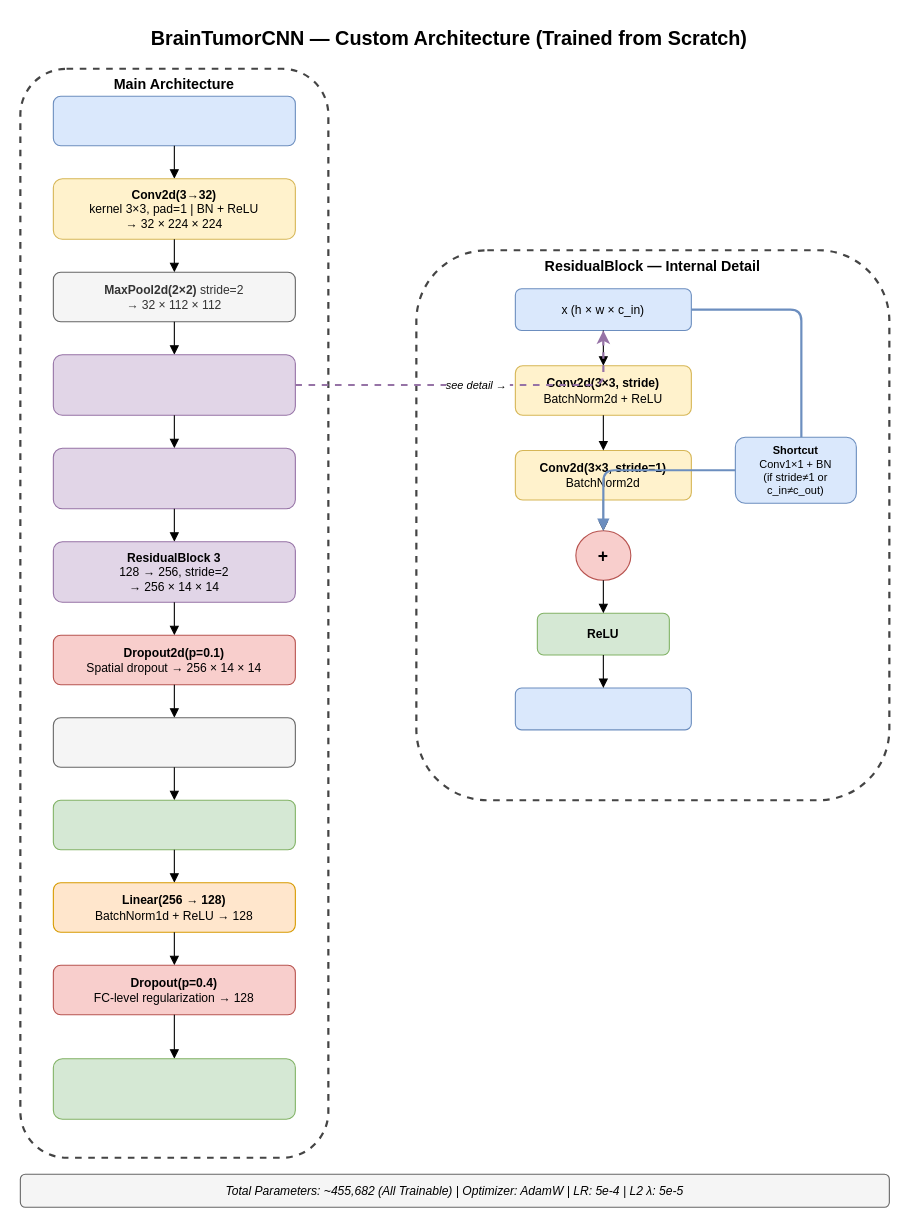
Image size: 909x1227. Some labels were removed from this diagram. The box of each missing label's shape, as (x1, y1, x2, y2) in pixels:
AdaptiveAvgPool2d(1×1) Global Average Pooling → 256 × 1 × 1: (52, 717, 295, 767)
Flatten 256 × 1 × 1 → 256: (52, 799, 295, 850)
Input 3 × 224 × 224 (RGB MRI Scan): (52, 95, 295, 146)
Linear(128 → 2) + Softmax [ Class 0: No Tumor | Class 1: Tumor ]: (52, 1058, 295, 1119)
out (h' × w' × c_out): (514, 687, 691, 730)
ResidualBlock 1 32 → 64, stride=2 → 64 × 56 × 56: (52, 354, 295, 415)
ResidualBlock 2 64 → 128, stride=2 → 128 × 28 × 28: (52, 447, 295, 509)
